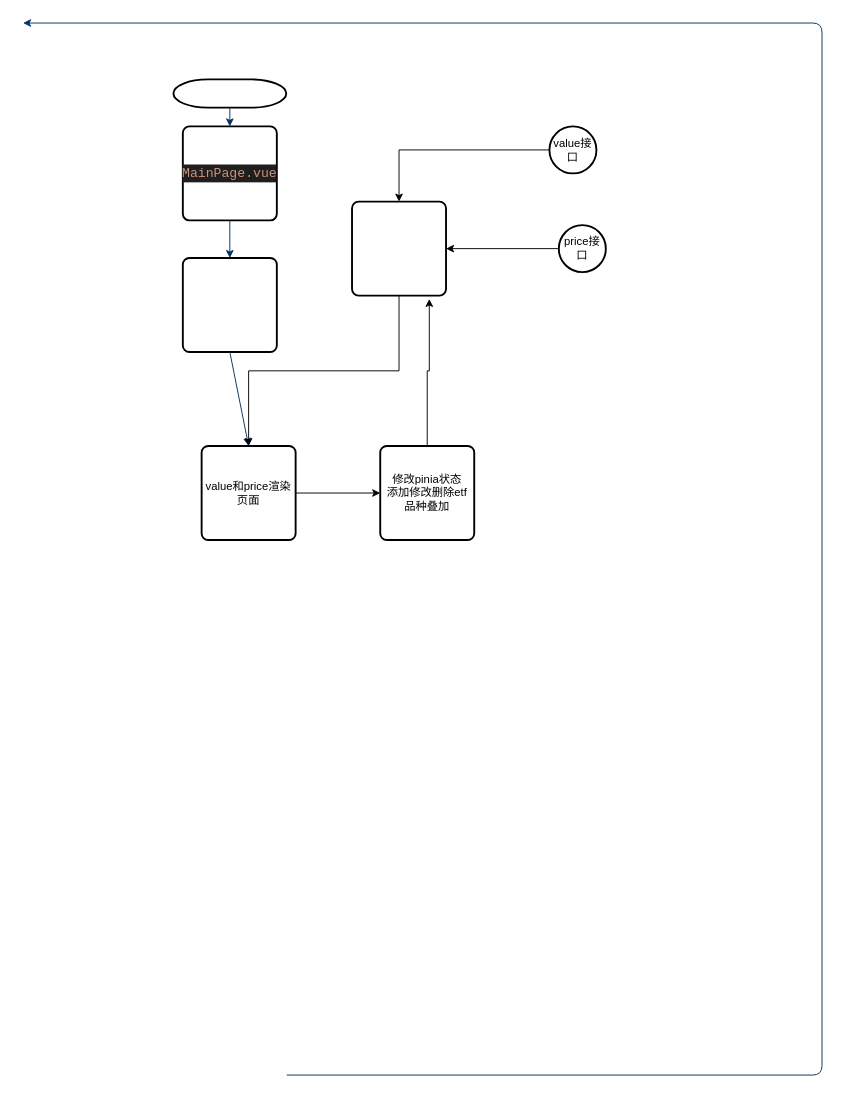
Some shapes in this 846 by 1100 pixel diagram are drawn without their labels. Here are the shapes that lost their labels. From the top down, the box of each, then its label:
(172, 78, 287, 108): main.ts/App.vue
(351, 200, 446, 296): pinia存储当前状态
(181, 257, 277, 352): MainHeader.vue
